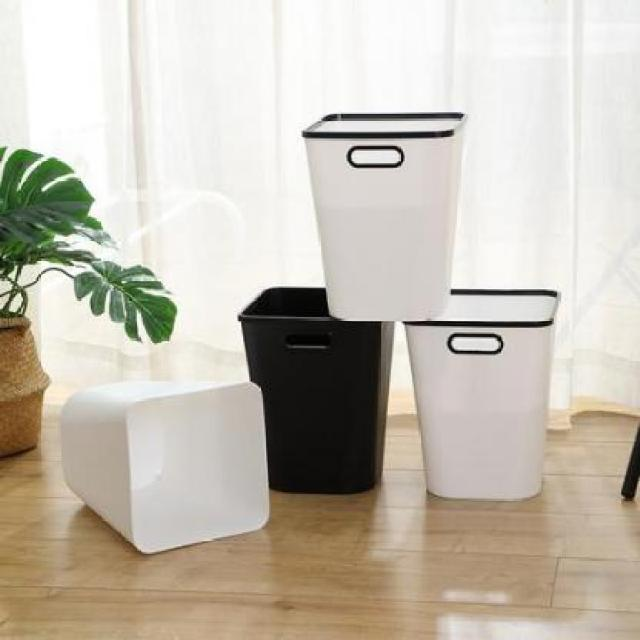dustbin: (55, 377, 272, 558), (300, 109, 475, 323), (400, 285, 565, 503), (232, 282, 400, 496)
